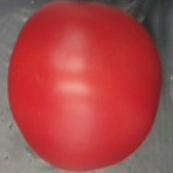unripe: (8, 0, 163, 173)
